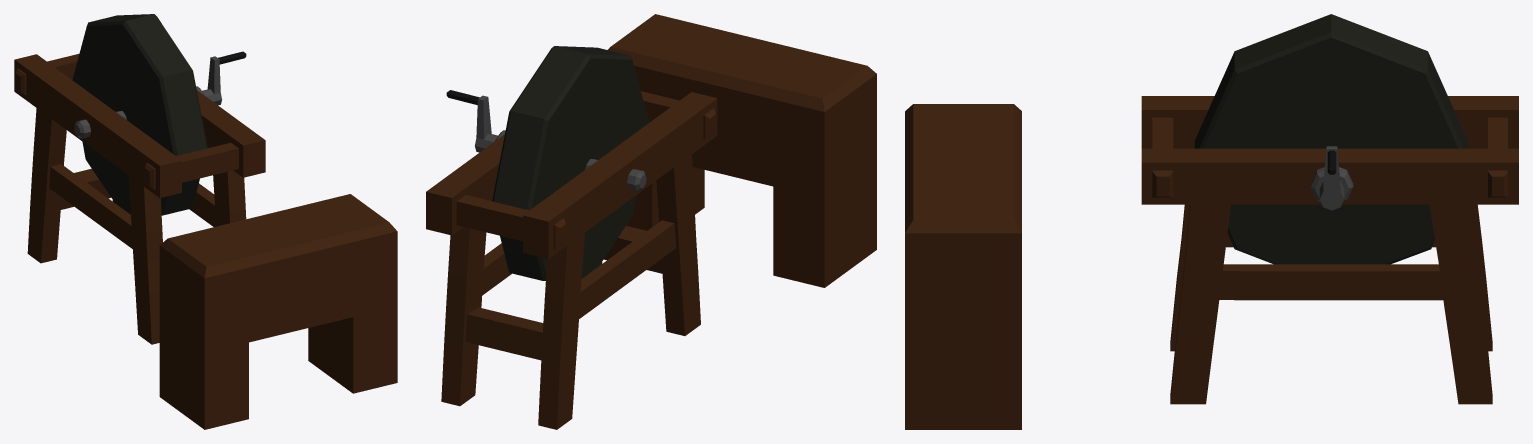
Rendered from GrindingWheel_FBX.fbx.
3 renders of one model, left to right at view 1: azimuth 30°, elevation 25°; view 2: azimuth 150°, elevation 25°; view 3: azimuth 270°, elevation 25°, orthographic. The views are drawn at different scales.
Visible parts, largest first — view 1: Grinder_Seat, Grinder_Stand, Grinder_Wheel; view 2: Grinder_Stand, Grinder_Seat, Grinder_Wheel; view 3: Grinder_Stand, Grinder_Wheel, Grinder_Seat.
Boxes of the visible parts, x1=… form: Grinder_Seat: x1=159, y1=194, x2=397, y2=429; Grinder_Stand: x1=14, y1=54, x2=265, y2=344; Grinder_Wheel: x1=72, y1=14, x2=246, y2=215; Grinder_Stand: x1=426, y1=91, x2=717, y2=429; Grinder_Seat: x1=608, y1=14, x2=876, y2=287; Grinder_Wheel: x1=446, y1=46, x2=649, y2=280; Grinder_Stand: x1=1141, y1=96, x2=1518, y2=404; Grinder_Wheel: x1=1194, y1=14, x2=1467, y2=264; Grinder_Seat: x1=905, y1=104, x2=1021, y2=429.
Bounding box in the file's own units: 72.52 × 91 × 145.
